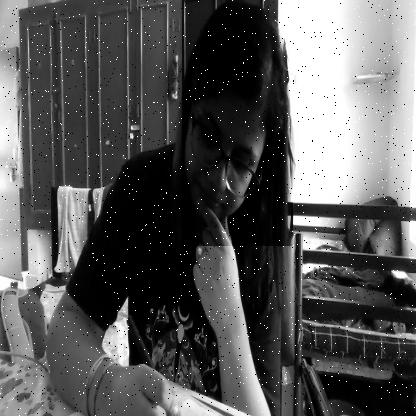Distracted: (182, 0, 293, 246)
